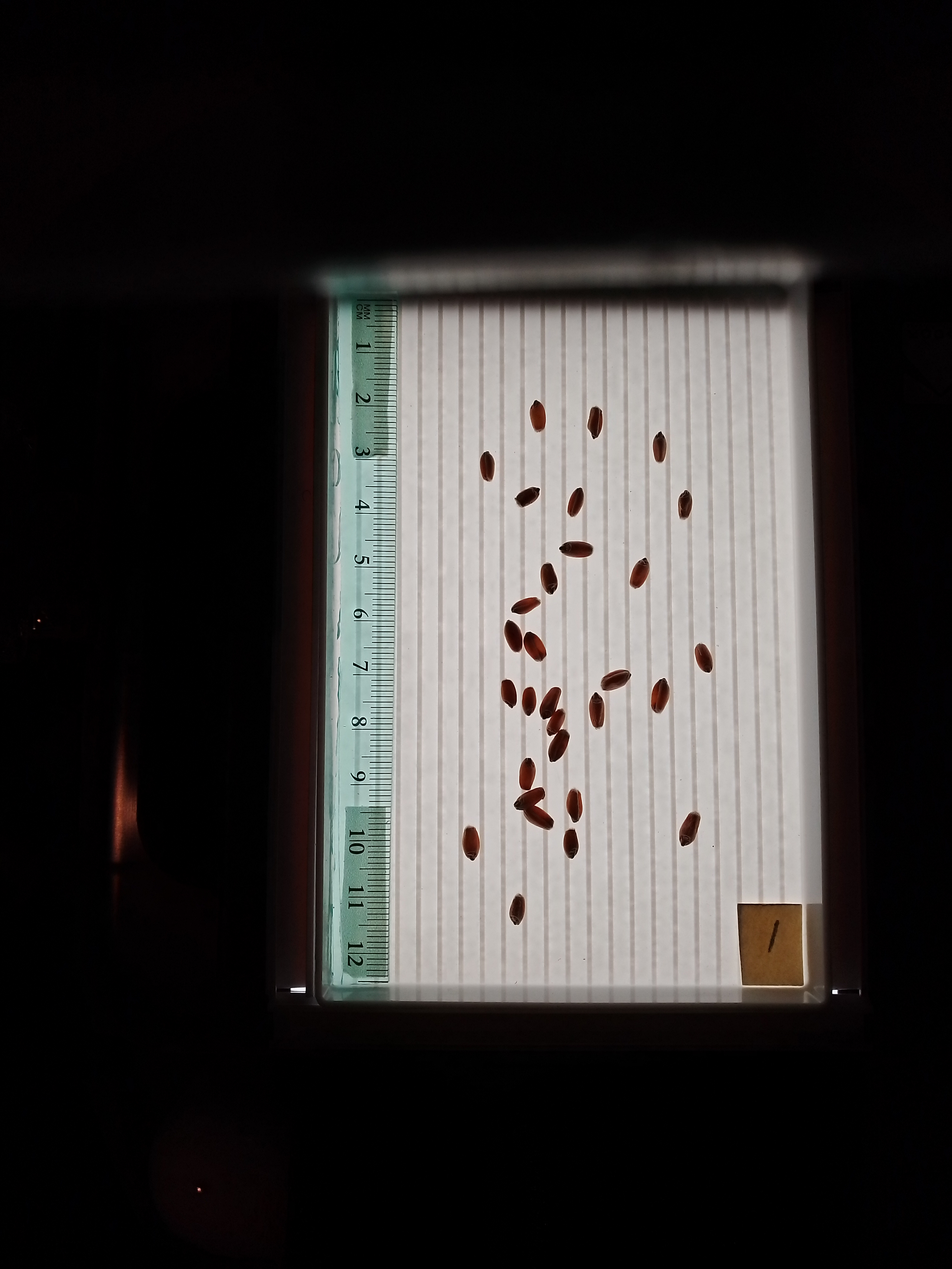seed mask: (524, 805, 553, 830), (679, 812, 700, 846), (514, 788, 544, 810), (539, 687, 560, 718), (462, 826, 480, 861), (524, 633, 546, 661), (651, 679, 669, 713), (630, 558, 650, 588), (602, 670, 630, 691), (550, 732, 569, 762), (519, 758, 536, 791), (561, 541, 593, 558), (505, 621, 522, 653), (589, 694, 605, 728), (566, 790, 583, 822), (695, 644, 713, 673), (540, 564, 557, 594), (512, 597, 539, 615), (530, 401, 546, 431), (567, 488, 584, 516), (547, 709, 565, 735), (479, 452, 495, 481), (509, 895, 525, 924), (516, 487, 539, 507), (588, 407, 603, 437), (653, 433, 668, 463), (501, 680, 517, 707), (564, 830, 579, 858), (522, 687, 536, 715), (678, 491, 692, 518)
